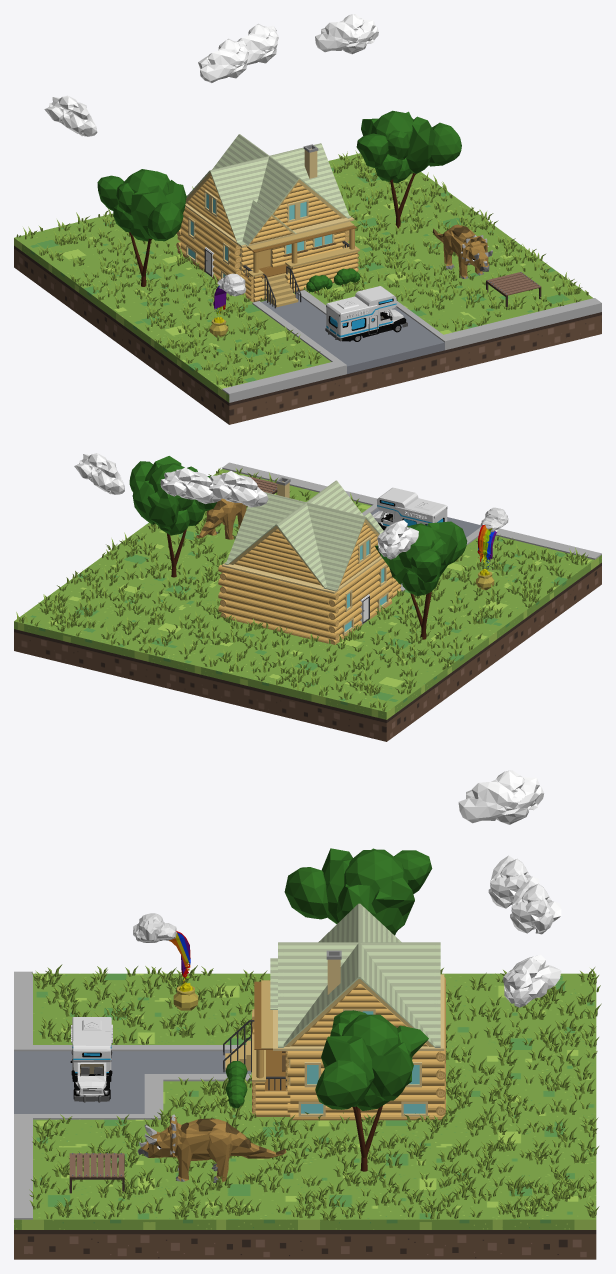
3 renders of one model, top to bottom at view 1: azimuth 30°, elevation 25°; view 2: azimuth 150°, elevation 25°; view 3: azimuth 270°, elevation 25°, orthographic. The views are drawn at different scales.
Visible parts, largest first — view 1: Cube.006, Cube.1516, Circle.012_Grass_0.192, Cube.007, tree, tree.001, VEHICLES_CAMPER, ANIMAL_Triceratops, OBJRANDOM_RAINBOW, Cube.009; view 2: Cube.006, Cube.1516, Circle.012_Grass_0.192, Cube.007, tree.001, tree, VEHICLES_CAMPER, OBJRANDOM_RAINBOW, ANIMAL_Triceratops; view 3: Cube.006, Circle.012_Grass_0.192, Cube.1516, tree, Cube.007, tree.001, ANIMAL_Triceratops, VEHICLES_CAMPER, OBJRANDOM_RAINBOW, Cube.009.
Part boxes in pixels (<box>): Cube.006: <box>14,153,601,424</box>; Cube.1516: <box>176,134,359,308</box>; Circle.012_Grass_0.192: <box>16,150,588,386</box>; Cube.007: <box>44,14,378,136</box>; tree: <box>356,110,461,228</box>; tree.001: <box>97,169,186,286</box>; VEHICLES_CAMPER: <box>325,286,407,341</box>; ANIMAL_Triceratops: <box>432,224,492,278</box>; OBJRANDOM_RAINBOW: <box>209,273,246,337</box>; Cube.009: <box>486,272,541,306</box>; Cube.006: <box>14,462,601,741</box>; Cube.1516: <box>218,477,401,644</box>; Circle.012_Grass_0.192: <box>16,468,588,711</box>; Cube.007: <box>74,453,418,559</box>; tree.001: <box>375,521,467,639</box>; tree: <box>129,456,216,577</box>; VEHICLES_CAMPER: <box>372,487,447,530</box>; OBJRANDOM_RAINBOW: <box>475,507,508,590</box>; ANIMAL_Triceratops: <box>196,498,246,539</box>; Cube.006: <box>14,971,596,1259</box>; Circle.012_Grass_0.192: <box>29,964,601,1220</box>; Cube.1516: <box>223,903,445,1120</box>; tree: <box>315,1010,428,1171</box>; Cube.007: <box>458,770,561,1007</box>; tree.001: <box>284,848,432,935</box>; ANIMAL_Triceratops: <box>137,1114,286,1182</box>; VEHICLES_CAMPER: <box>70,1017,112,1102</box>; OBJRANDOM_RAINBOW: <box>133,913,198,1010</box>; Cube.009: <box>69,1153,124,1193</box>.
Bounding box in the file's own units: 4071 × 2175 × 4040.
45 materials, 4 textured.
